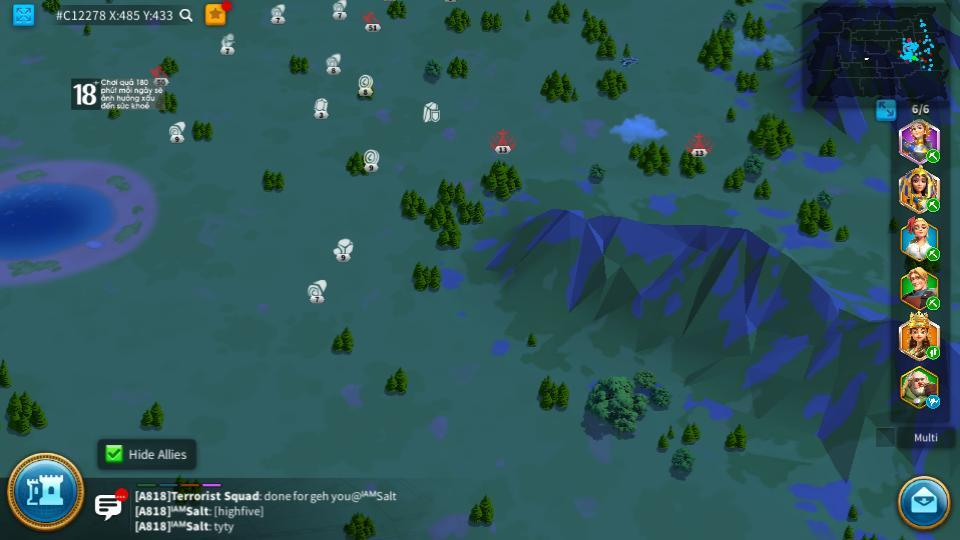gem-z-out: (312, 96, 331, 117)
march_idle: (925, 394, 942, 408)
march_marching: (925, 197, 941, 212), (925, 150, 942, 162), (925, 347, 941, 359), (925, 297, 942, 308)
